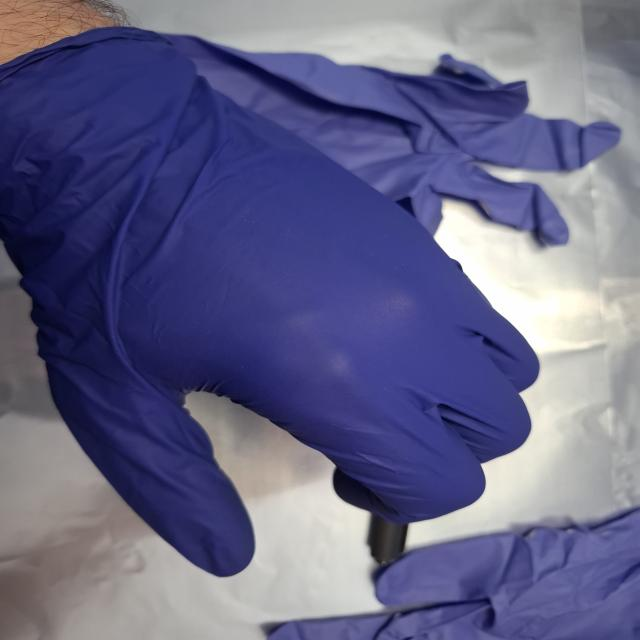glove_on: (0, 21, 544, 580)
